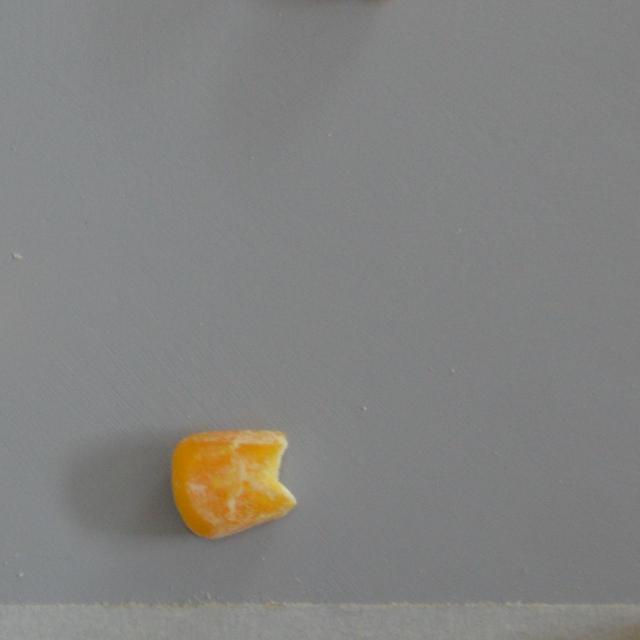dañado: (160, 418, 304, 545)
